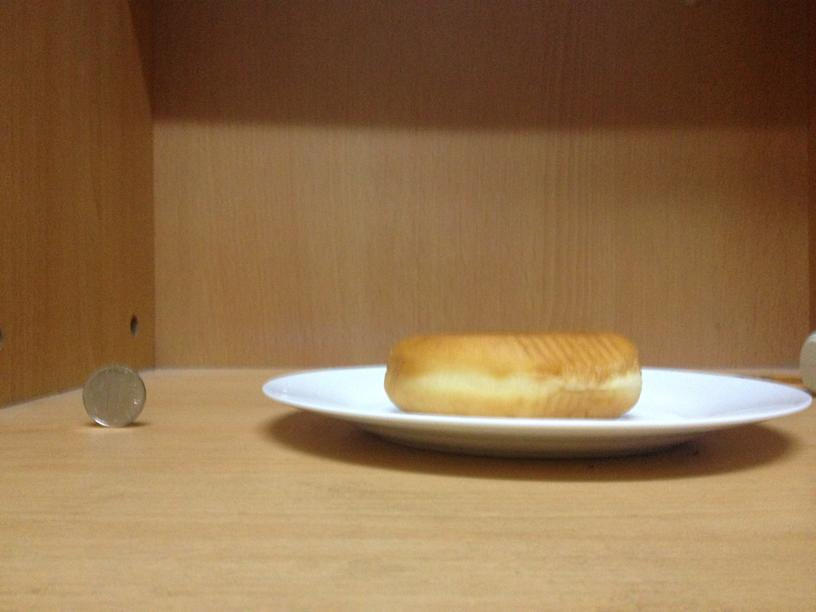coin: (82, 365, 146, 428)
doughnut: (383, 328, 641, 418)
